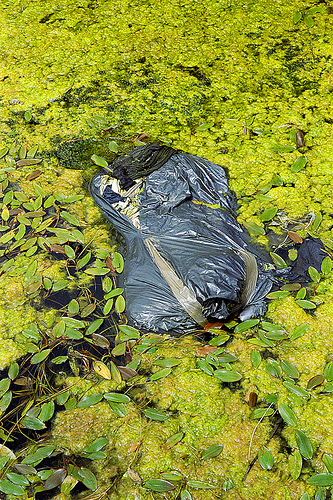litter: (86, 144, 317, 333)
